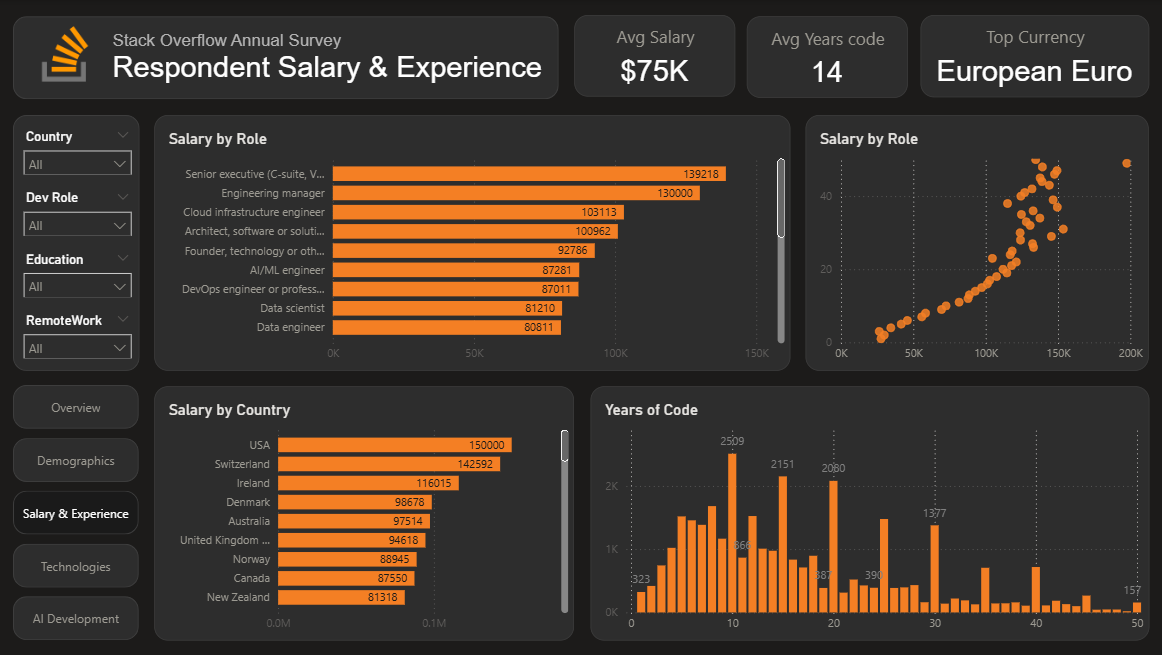

The dashboard page shown, as its layout file describes it:
{"tool":"powerbi","page":{"name":"Salary & Experience","canvas":[1280,720],"ordinal":2},"visuals":[{"type":"clusteredBarChart","title":"Salary by Role","fields":{"Category":["Survey.DevType"],"Y":["Survey.Median Salary"]},"box":[171.7,125.8,698.3,280.8],"z":0},{"type":"clusteredBarChart","title":"Salary by Country","fields":{"Category":["Survey.Country"],"Y":["Survey.Median Salary"]},"box":[171.7,424.2,460.8,279.2],"z":1000},{"type":"scatterChart","title":"Salary by Role","fields":{"X":["Avg(Survey.Salary Clean)"],"Y":["Survey.Years of code clean"]},"box":[886.7,125.8,376.7,280.8],"z":2000},{"type":"clusteredColumnChart","title":"Years of Code","fields":{"Y":["Count(Survey.ResponseId)"],"Category":["Survey.Years of code clean"]},"box":[650,424,613.5,279.5],"z":3000},{"type":"card","title":"Avg Years code","fields":{"Values":["Median(Survey.Years of code clean)"]},"box":[822.4,18,176.9,89.9],"z":4000},{"type":"card","title":"Avg Salary","fields":{"Values":["Median(Survey.Salary Clean)"]},"box":[632.5,17,176.9,89.9],"z":5000},{"type":"pageNavigator","box":[16.7,422.2,138.9,281.1],"z":6000},{"type":"shape","box":[17,126,139,281],"z":7000},{"type":"slicer","title":"Age Distribution","fields":{"Values":["Survey.Country"]},"box":[17.3,141.5,138.4,50],"z":8000},{"type":"slicer","title":"Age Distribution","fields":{"Values":["Survey.DevType"]},"box":[17.3,208.3,138.4,50.5],"z":9000},{"type":"slicer","title":"Age Distribution","fields":{"Values":["Survey.Education_level"]},"box":[17.3,275.7,138.4,50],"z":10000},{"type":"slicer","title":"Age Distribution","fields":{"Values":["Survey.RemoteWork_Clean"]},"box":[17.3,342.5,138.4,50],"z":11000},{"type":"shape","box":[17,18,599,91],"z":12000},{"type":"textbox","box":[120.6,29.2,488.3,72.9],"z":13000},{"type":"image","box":[38.1,28.9,70.1,60.8],"z":14000},{"type":"card","title":"Top Currency","fields":{"Values":["Survey.Top Currency"]},"box":[1013,17,251,90],"z":15000}]}

Visuals, with their boxes in screenshot pixels (x1, y1, x2, y2), scaled from the page's 1280x720 canvas onto the 1162x655 screenshot:
"Salary by Role" clusteredBarChart: 156 114 790 370
"Salary by Country" clusteredBarChart: 156 386 574 640
"Salary by Role" scatterChart: 805 114 1147 370
"Years of Code" clusteredColumnChart: 590 386 1147 640
"Avg Years code" card: 747 16 907 98
"Avg Salary" card: 574 15 735 97
pageNavigator: 15 384 141 640
shape: 15 115 142 370
"Age Distribution" slicer: 16 129 141 174
"Age Distribution" slicer: 16 189 141 235
"Age Distribution" slicer: 16 251 141 296
"Age Distribution" slicer: 16 312 141 357
shape: 15 16 559 99
textbox: 109 27 553 93
image: 35 26 98 82
"Top Currency" card: 920 15 1147 97
